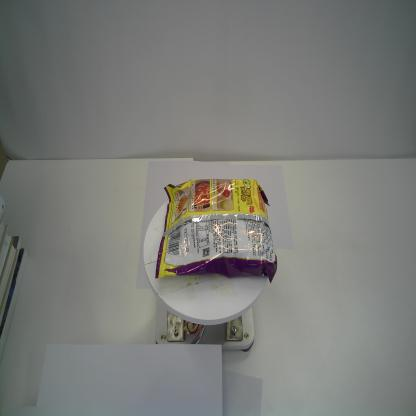Instant Noodles: (154, 176, 278, 285)
